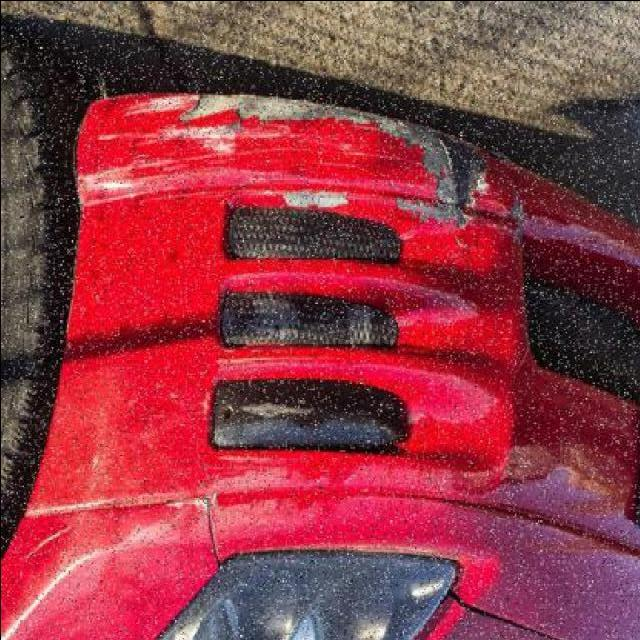front-bumper-dent: (16, 79, 532, 558)
